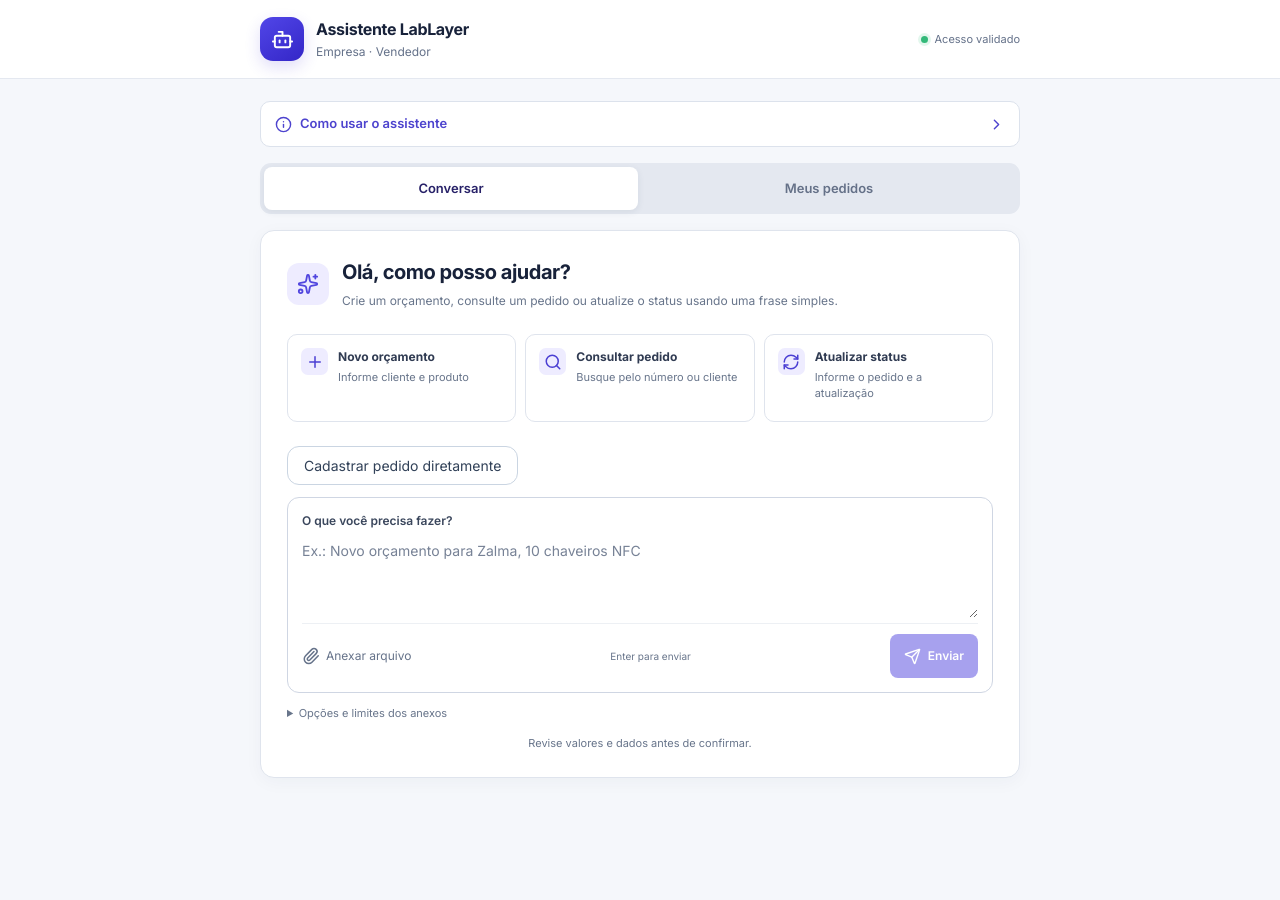
Test: exige conferência, não anuncia sucesso com falha e reenvia exatamente o mesmo pedido
The width and height of the screenshot is (1280, 900).
Later steps or results of the test are not shown.
Type "Boneco 12 cm" into the text box named "Criar, consultar ou atualizar um pedido".
click(640, 574); type("Boneco 12 cm")  # box [302,530,978,618]
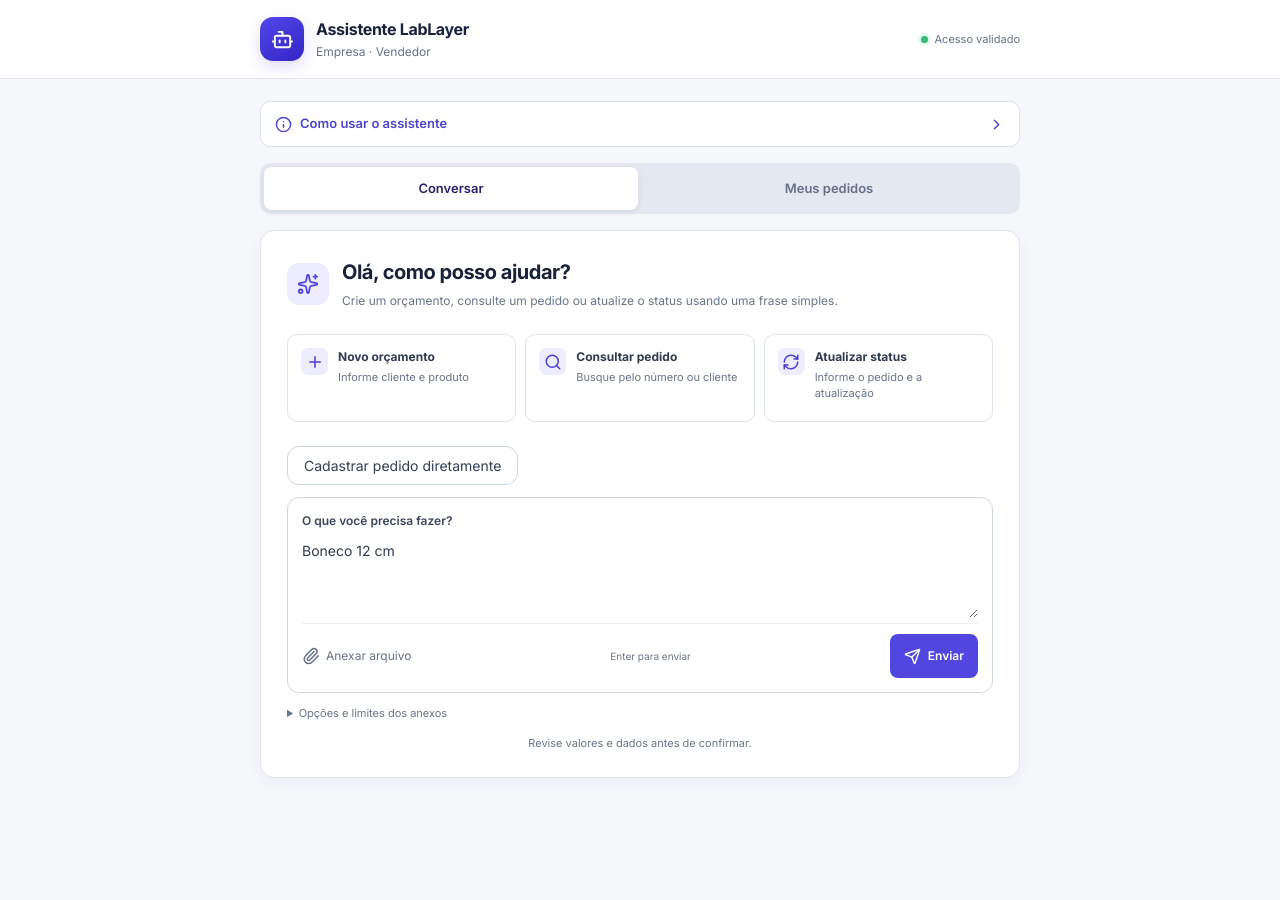
Click the button with aria-label "Enviar mensagem".
click(934, 656)  # box [890,634,978,678]
(page scrolled)
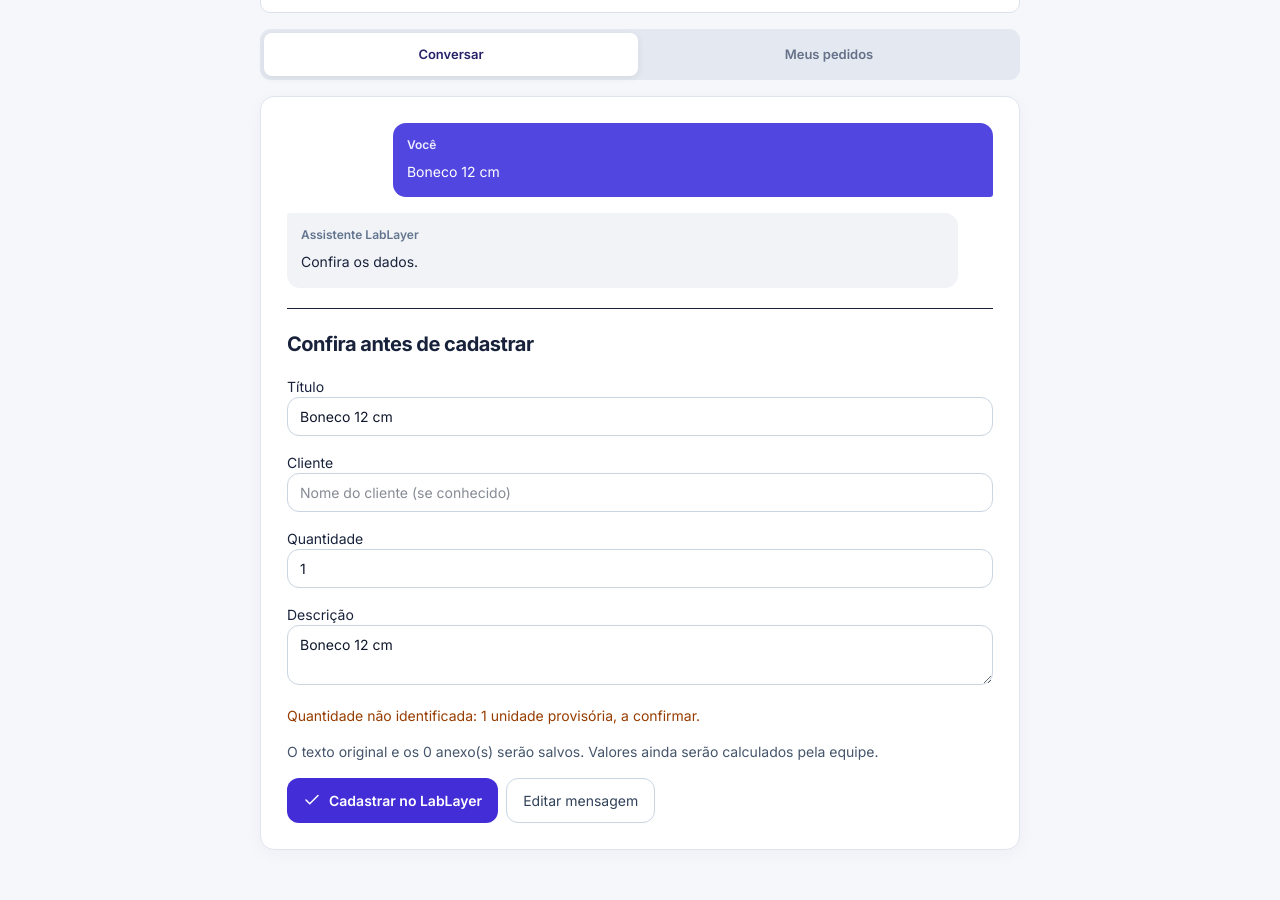
Expected: the heading "Confira antes de cadastrar" is shown, [287,332,534,356]
Expected: the text "1 unidade provisória" is shown, [287,707,700,724]
Click the button "Cadastrar no LabLayer".
click(393, 800)  # box [287,778,498,823]
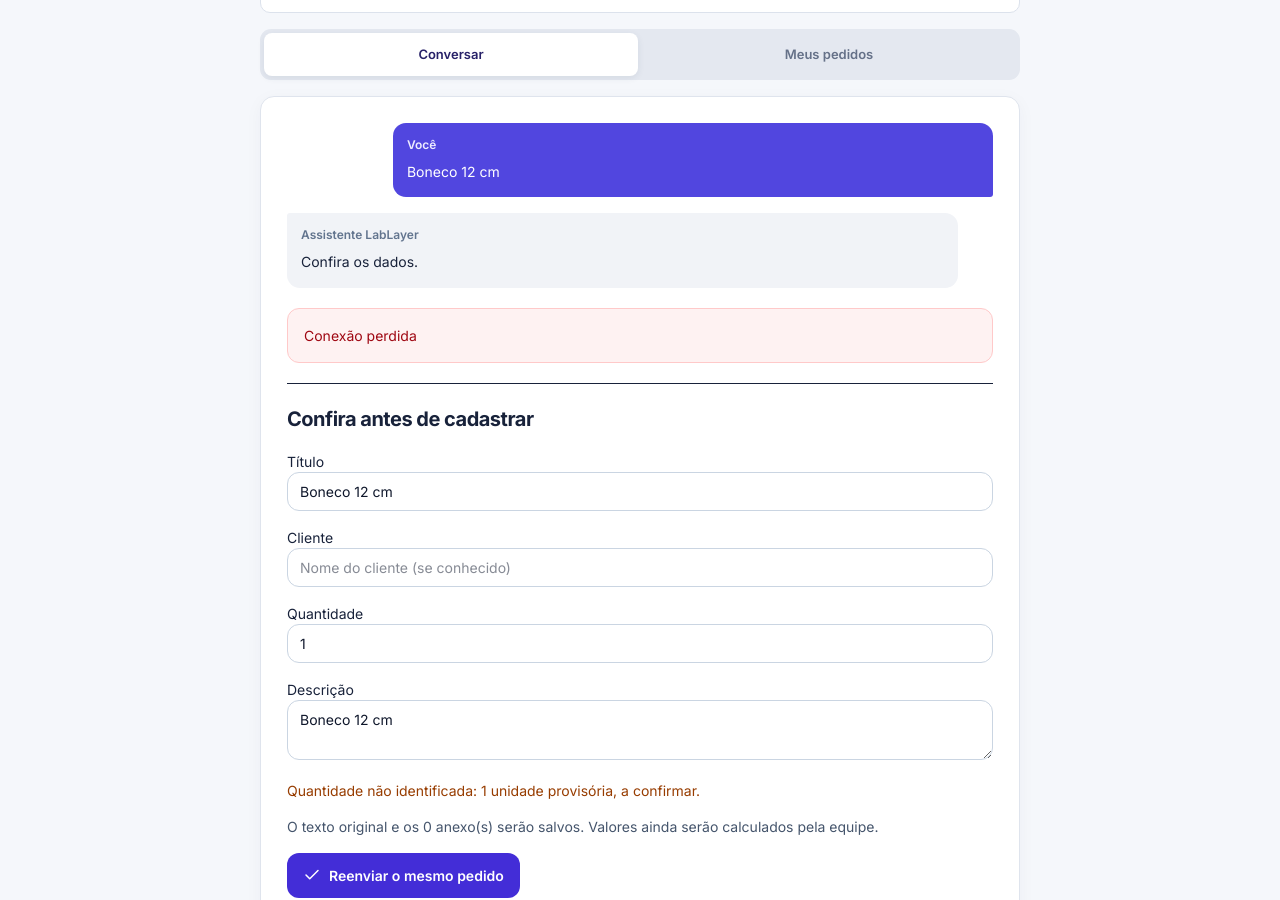
Expected: the text "Conexão perdida" is shown, [287,308,993,363]
